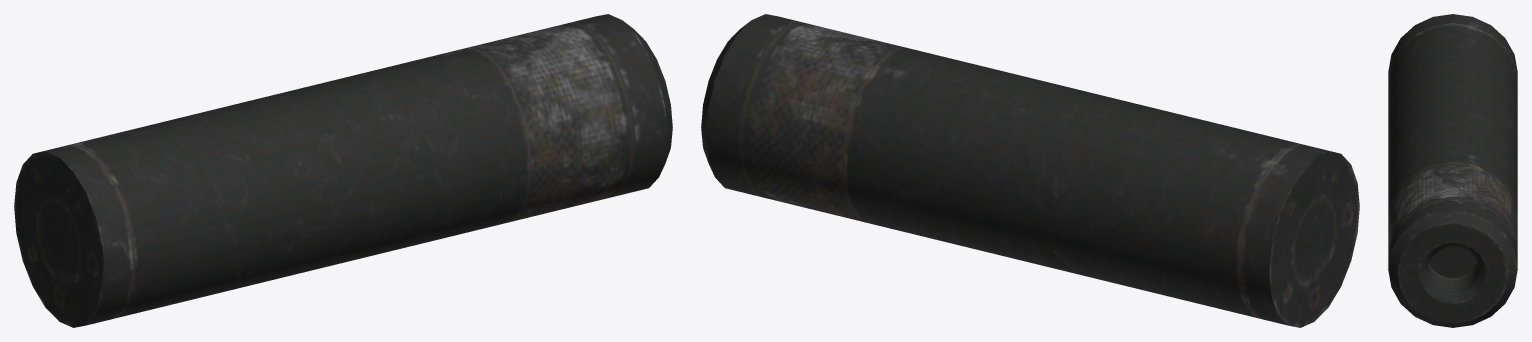
File: ST_Muzzle_Suppressor_Uzi.FBX
The picture shows the model from 3 angles, left to right: view 1: azimuth 30°, elevation 25°; view 2: azimuth 150°, elevation 25°; view 3: azimuth 270°, elevation 25°; orthographic projection. The views are drawn at different scales.
Visible parts, largest first — view 1: ST_Muzzle_Suppressor_Uzi; view 2: ST_Muzzle_Suppressor_Uzi; view 3: ST_Muzzle_Suppressor_Uzi.
Boxes of the visible parts, x1,y1,x2,y2 form: ST_Muzzle_Suppressor_Uzi: (14, 14, 672, 327); ST_Muzzle_Suppressor_Uzi: (701, 14, 1359, 327); ST_Muzzle_Suppressor_Uzi: (1388, 14, 1517, 327).
Size of the model in its own units: 15.63 by 4.27 by 4.27.
Materials: 1 (1 with a texture image).
